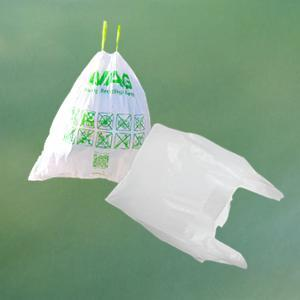plastic_bag: (102, 122, 286, 272)
